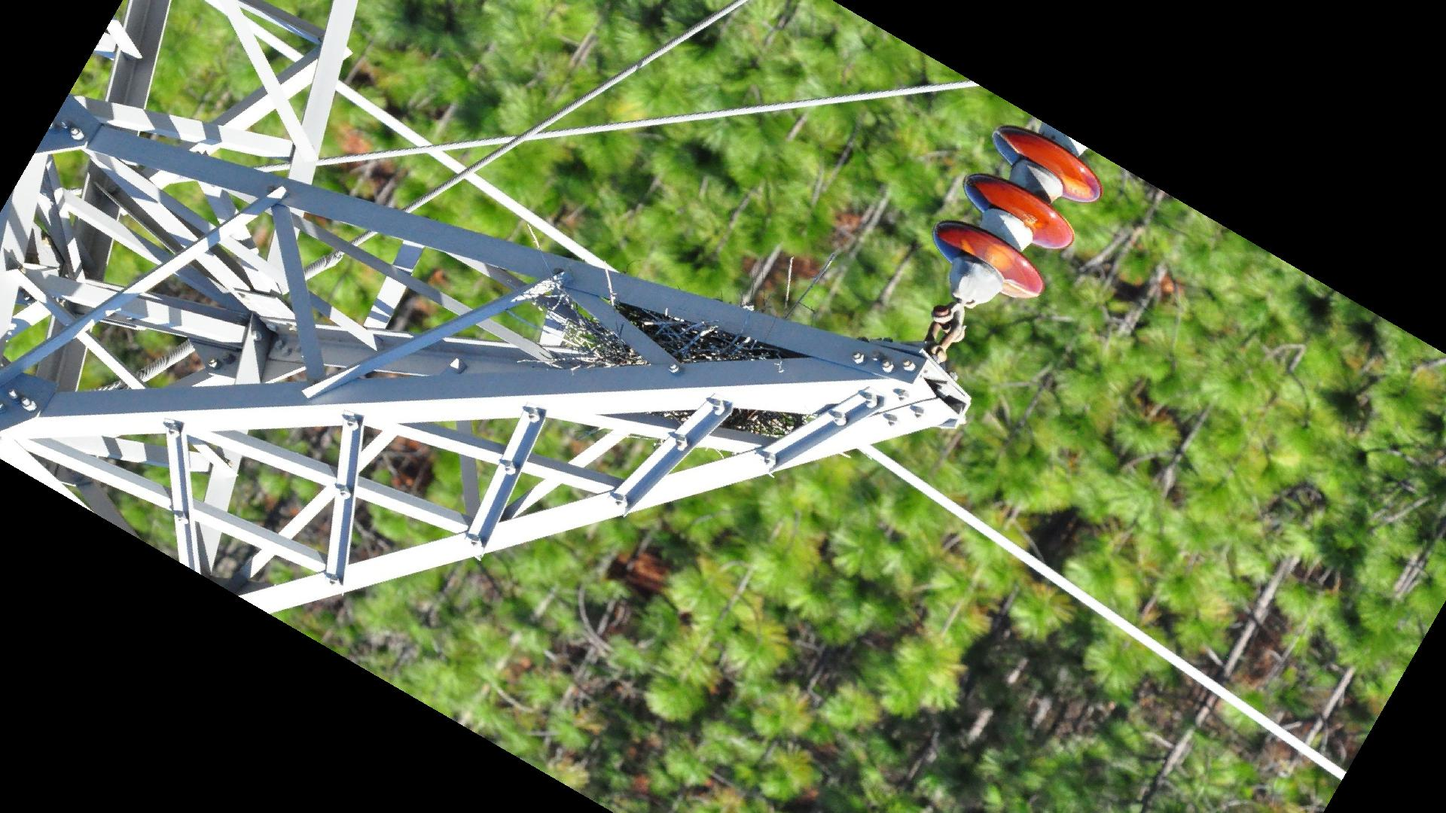insulator: (930, 120, 1107, 306)
insulator_flashover: (990, 129, 1022, 166), (984, 239, 1017, 272), (1060, 173, 1096, 202), (1001, 277, 1039, 302), (959, 237, 976, 259)
